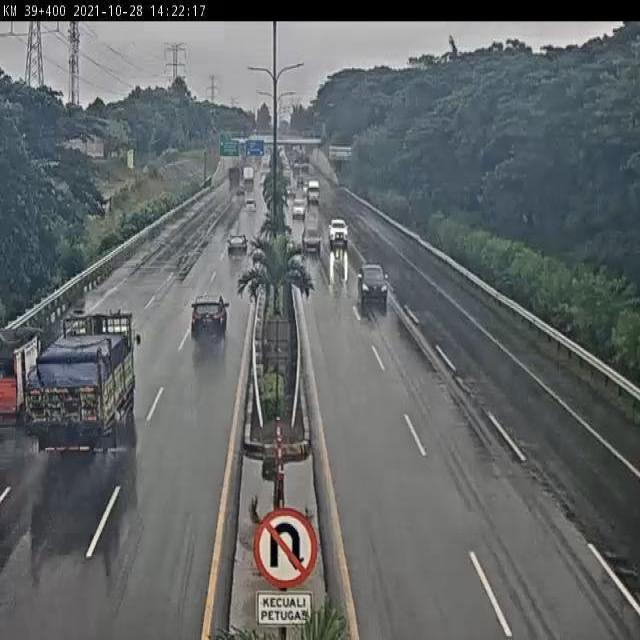car: (189, 293, 229, 344), (355, 261, 395, 308), (327, 216, 354, 253), (299, 220, 325, 256), (227, 232, 248, 260), (291, 199, 307, 220), (244, 196, 257, 216)
small truck: (42, 308, 135, 449), (0, 311, 46, 432)
